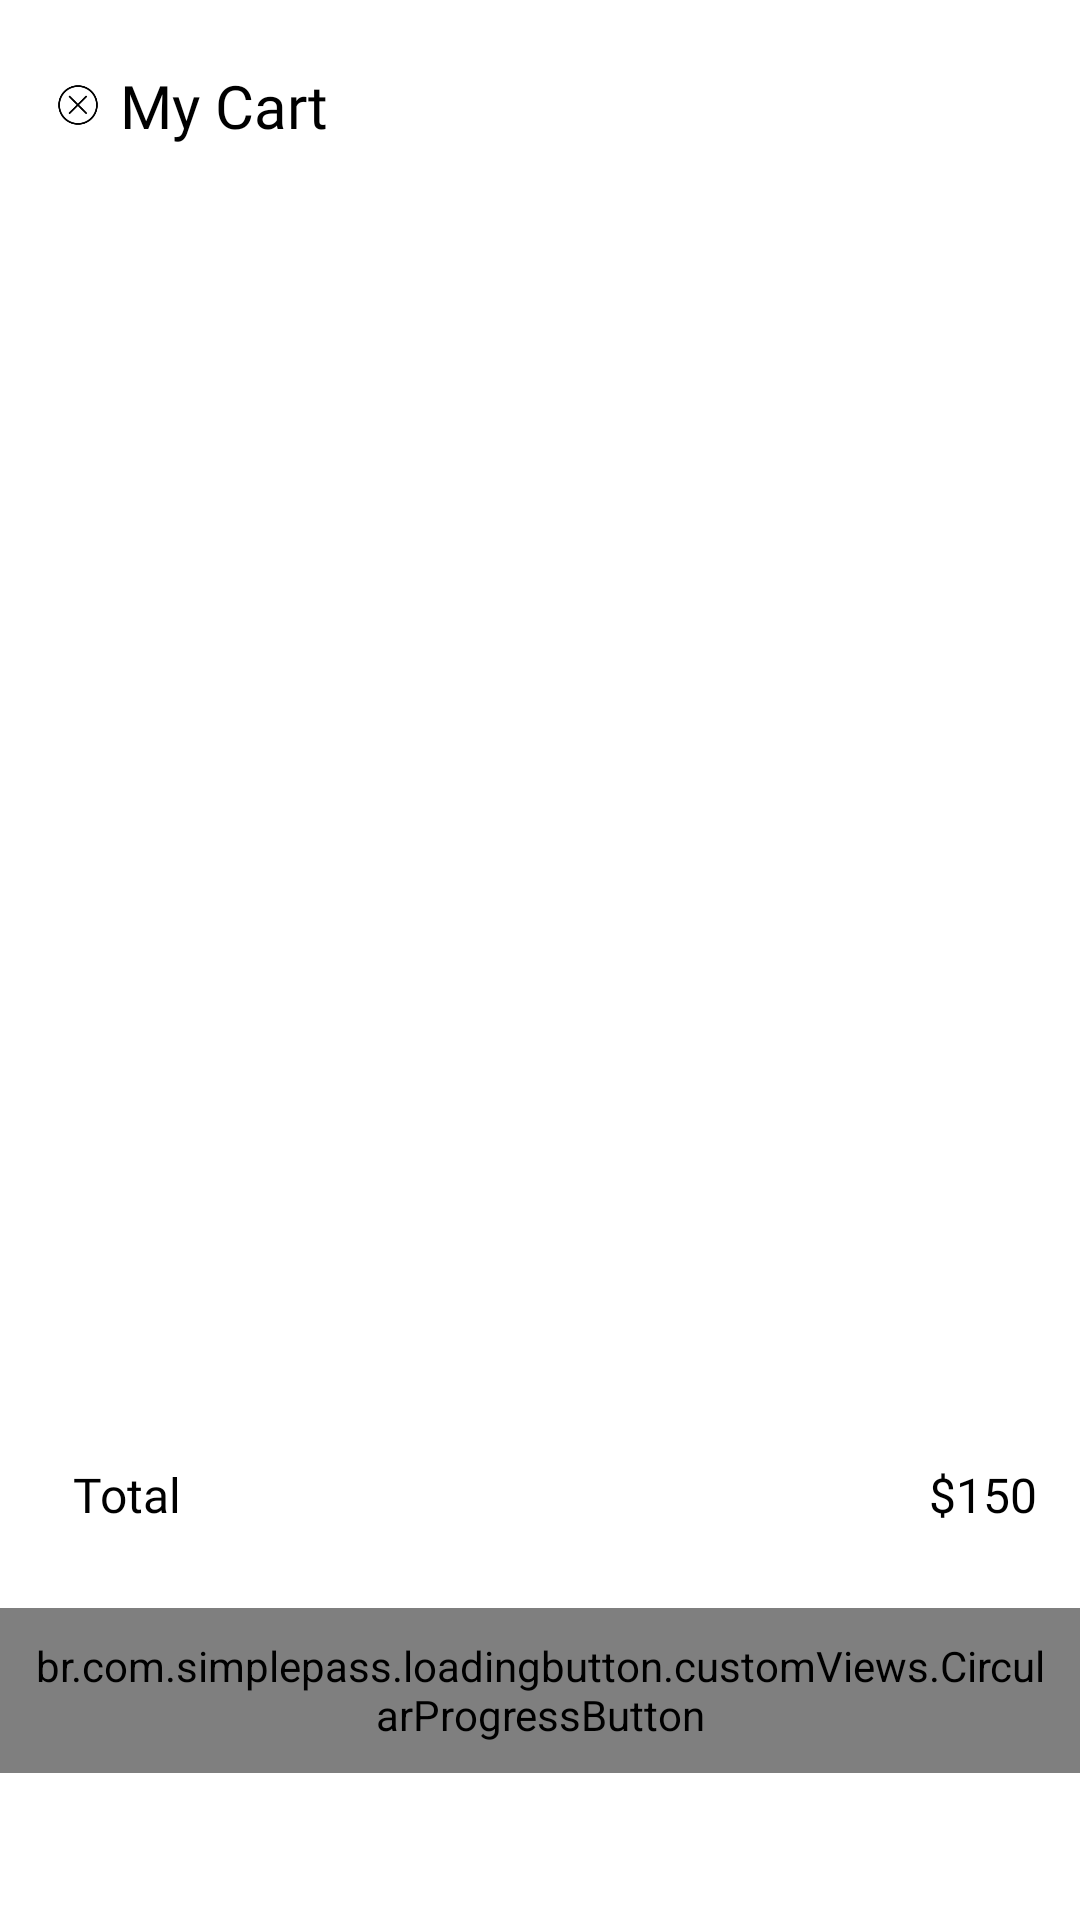

Where icons sit on this 1080 x 1920 app screen, as [left=x1, top=y1, right=x2, bottom=y2]:
close: [left=58, top=85, right=98, bottom=125]
